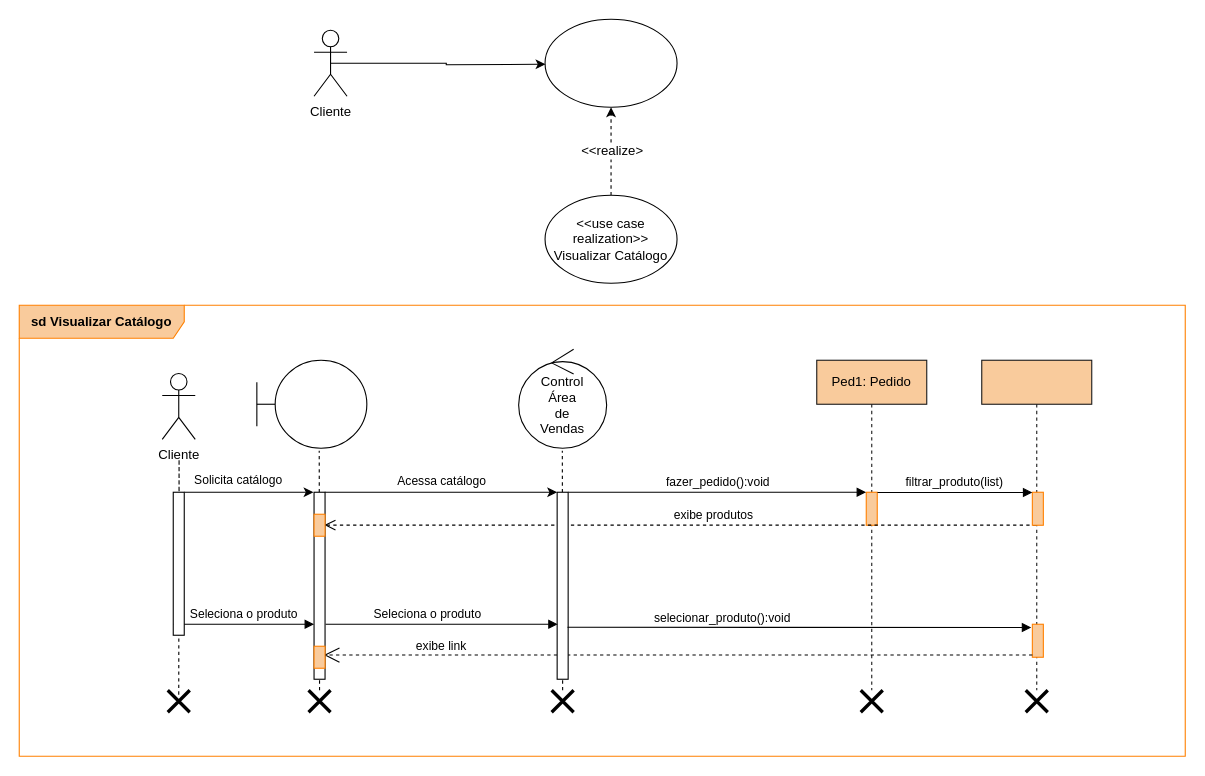
Image size: 1205x776. Some labels were removed from this diagram. The centre of each missing label's shape, as x and y in pixels:
"Interface Área de Vendas" goes at point 311,403.
"Prod1: Produto" goes at point 1036,524.
"Visualizar Catálogo" goes at point 610,62.
